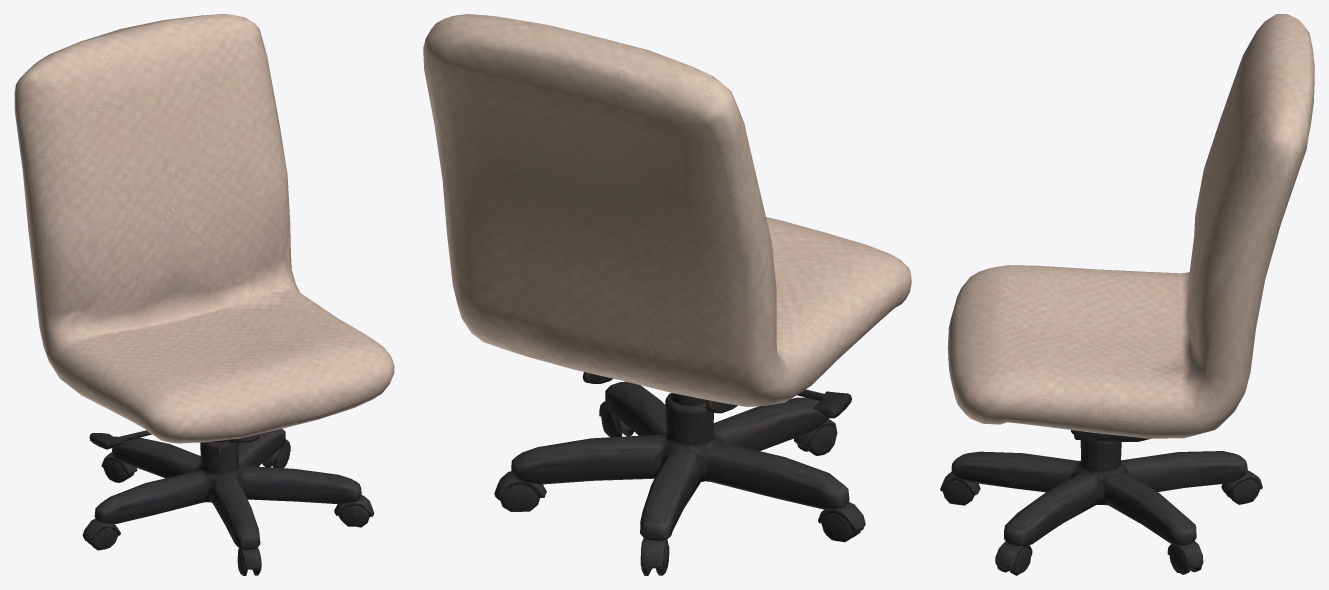
File: office_swivel_chair.glb
The picture shows the model from 3 angles, left to right: view 1: azimuth 30°, elevation 25°; view 2: azimuth 150°, elevation 25°; view 3: azimuth 270°, elevation 25°; orthographic projection. The views are drawn at different scales.
Parts seen in each view (by area): view 1: geometry_0; view 2: geometry_0; view 3: geometry_0.
Part boxes in pixels (left/top/right/bottom): geometry_0: left=14, top=14, right=394, bottom=575; geometry_0: left=423, top=14, right=911, bottom=575; geometry_0: left=940, top=14, right=1314, bottom=575.
Size of the model in its own units: 0.6486 by 1 by 0.7314.
Materials: 1 (1 with a texture image).
